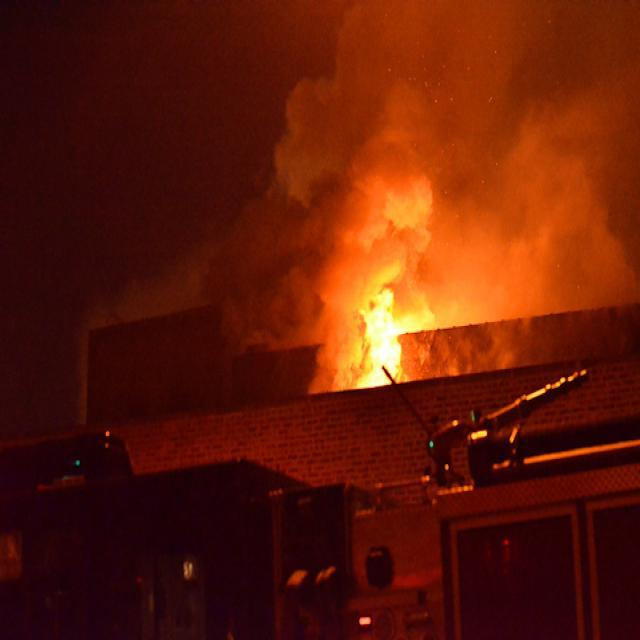Fire: (366, 304, 398, 386)
